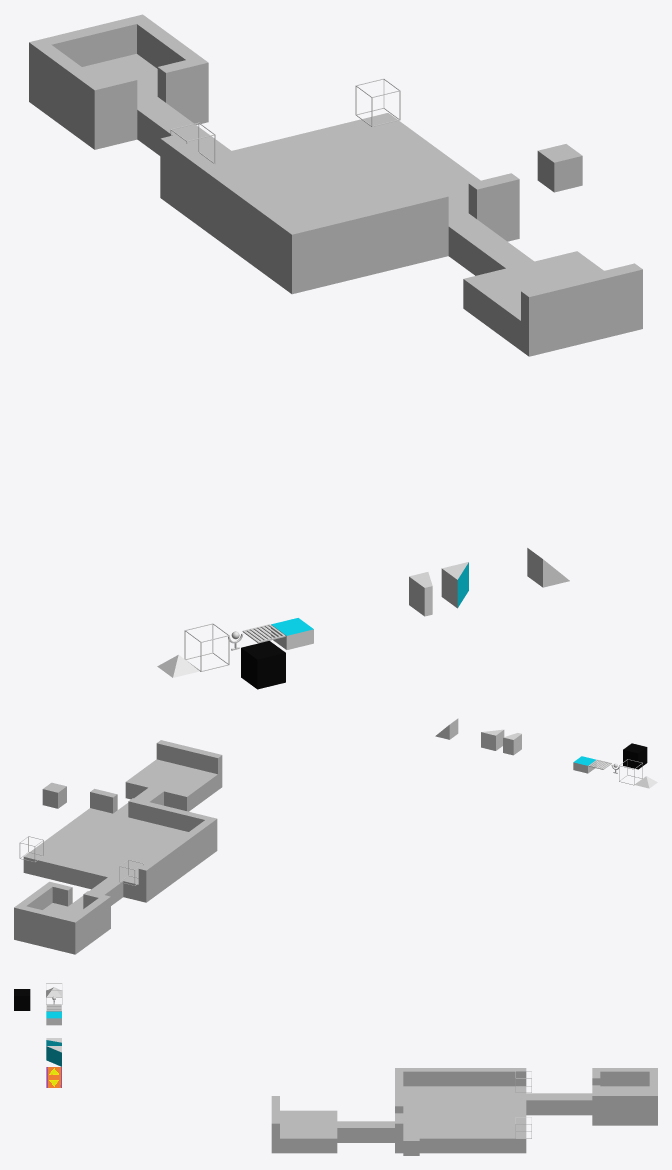
File: GameObjectMesh.FBX
3 renders of one model, top to bottom at view 1: azimuth 30°, elevation 25°; view 2: azimuth 150°, elevation 25°; view 3: azimuth 270°, elevation 25°, orthographic. The views are drawn at different scales.
Parts seen in each view (by area): view 1: P_Floor_1, TP_BoxShell; view 2: P_Floor_1, TP_BoxShell, TP_Mirror45_Shell, TP_Mirror225_Shell; view 3: P_Floor_1, TP_BoxShell, TP_GravityShift_MF.
Boxes of the visible parts, x1=… form: P_Floor_1: x1=29, y1=14, x2=642, y2=356; TP_BoxShell: x1=241, y1=641, x2=285, y2=689; P_Floor_1: x1=14, y1=740, x2=222, y2=954; TP_BoxShell: x1=623, y1=743, x2=647, y2=769; TP_Mirror45_Shell: x1=481, y1=729, x2=504, y2=750; TP_Mirror225_Shell: x1=503, y1=733, x2=521, y2=755; P_Floor_1: x1=271, y1=1068, x2=657, y2=1155; TP_BoxShell: x1=14, y1=989, x2=30, y2=1010; TP_GravityShift_MF: x1=46, y1=1067, x2=61, y2=1087.
Size of the model in its own units: 135 by 12.7 by 196.
